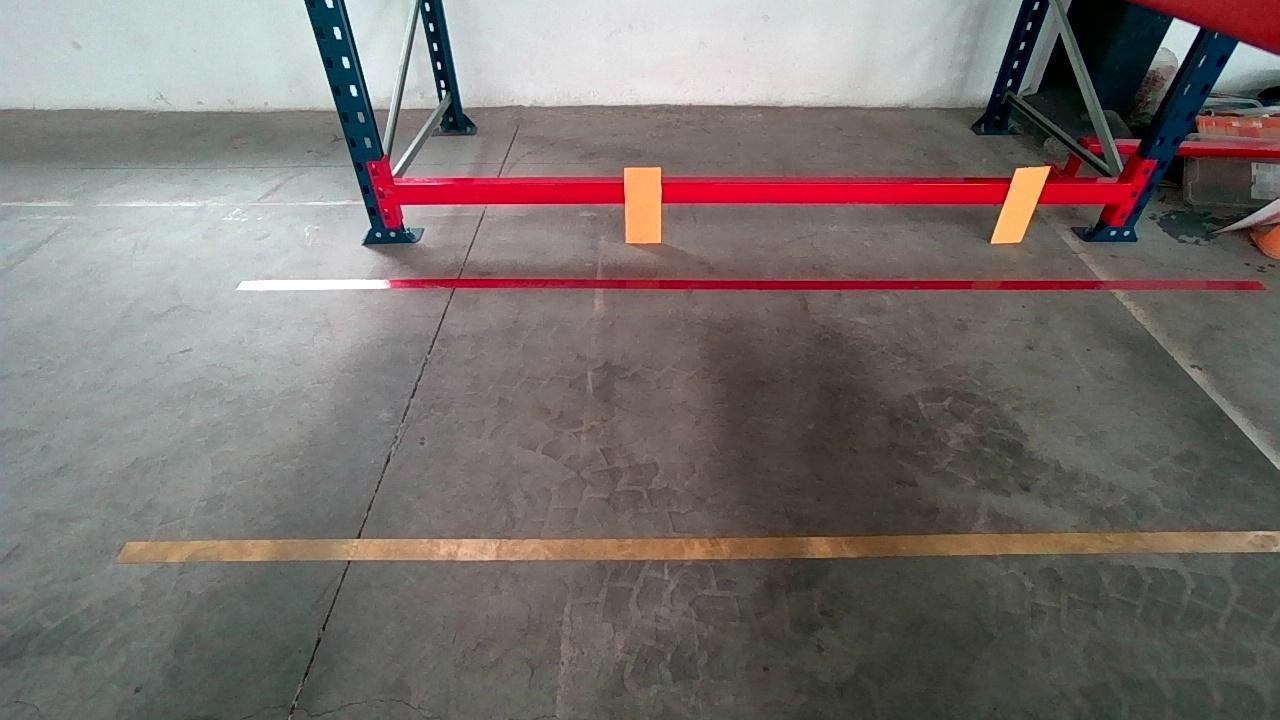h_rack: (389, 183, 1123, 206)
orange_strip: (990, 167, 1052, 242), (625, 166, 662, 241)
red_line: (233, 281, 1262, 292)
yellow_line: (110, 534, 1280, 562)
